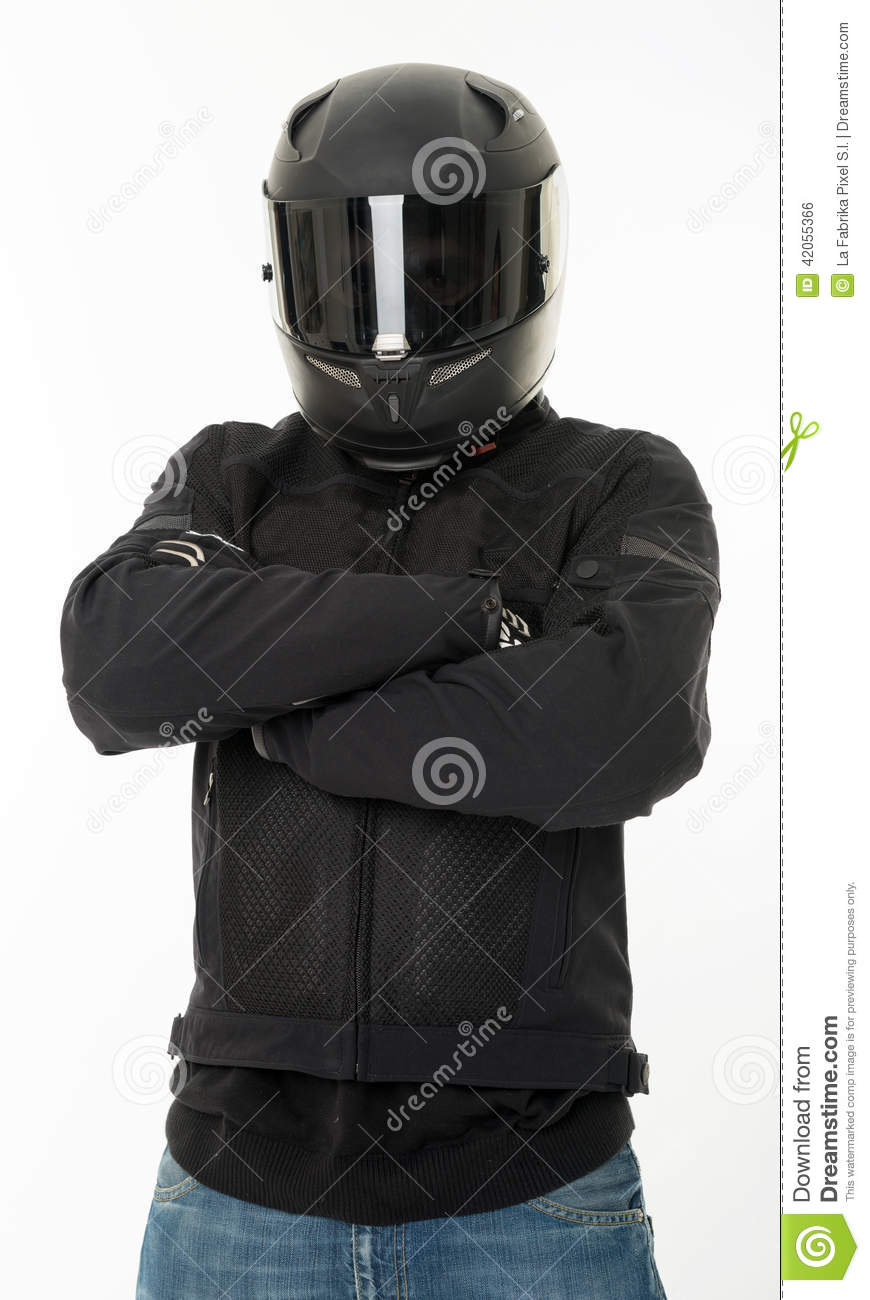helmet: (243, 59, 595, 447)
